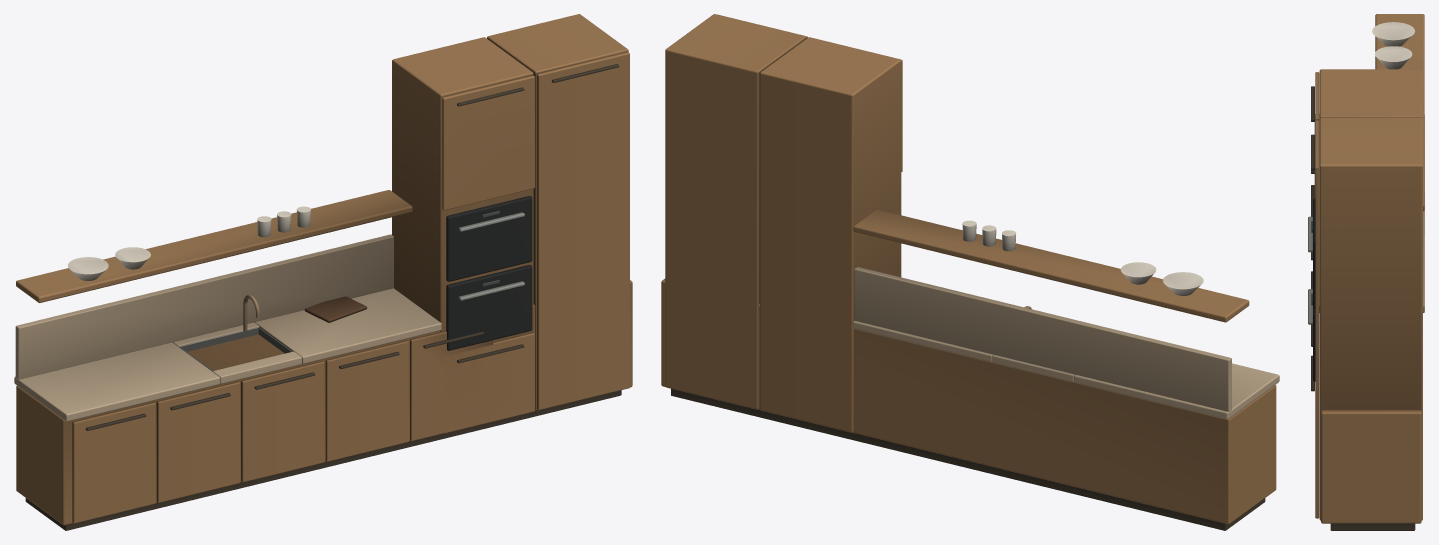
Rendered from slab-wall.glb.
3 views of the same model, side by side, from view 1: azimuth 30°, elevation 25°; view 2: azimuth 150°, elevation 25°; view 3: azimuth 270°, elevation 25° (orthographic). The views are drawn at different scales.
Parts seen in each view (by area): view 1: slab-wall; view 2: slab-wall; view 3: slab-wall.
Part boxes in pixels (x1=…): slab-wall: x1=14, y1=14, x2=632, y2=530; slab-wall: x1=661, y1=14, x2=1279, y2=530; slab-wall: x1=1308, y1=14, x2=1424, y2=530.
Size of the model in its own units: 4.32 by 2.54 by 0.7319.
